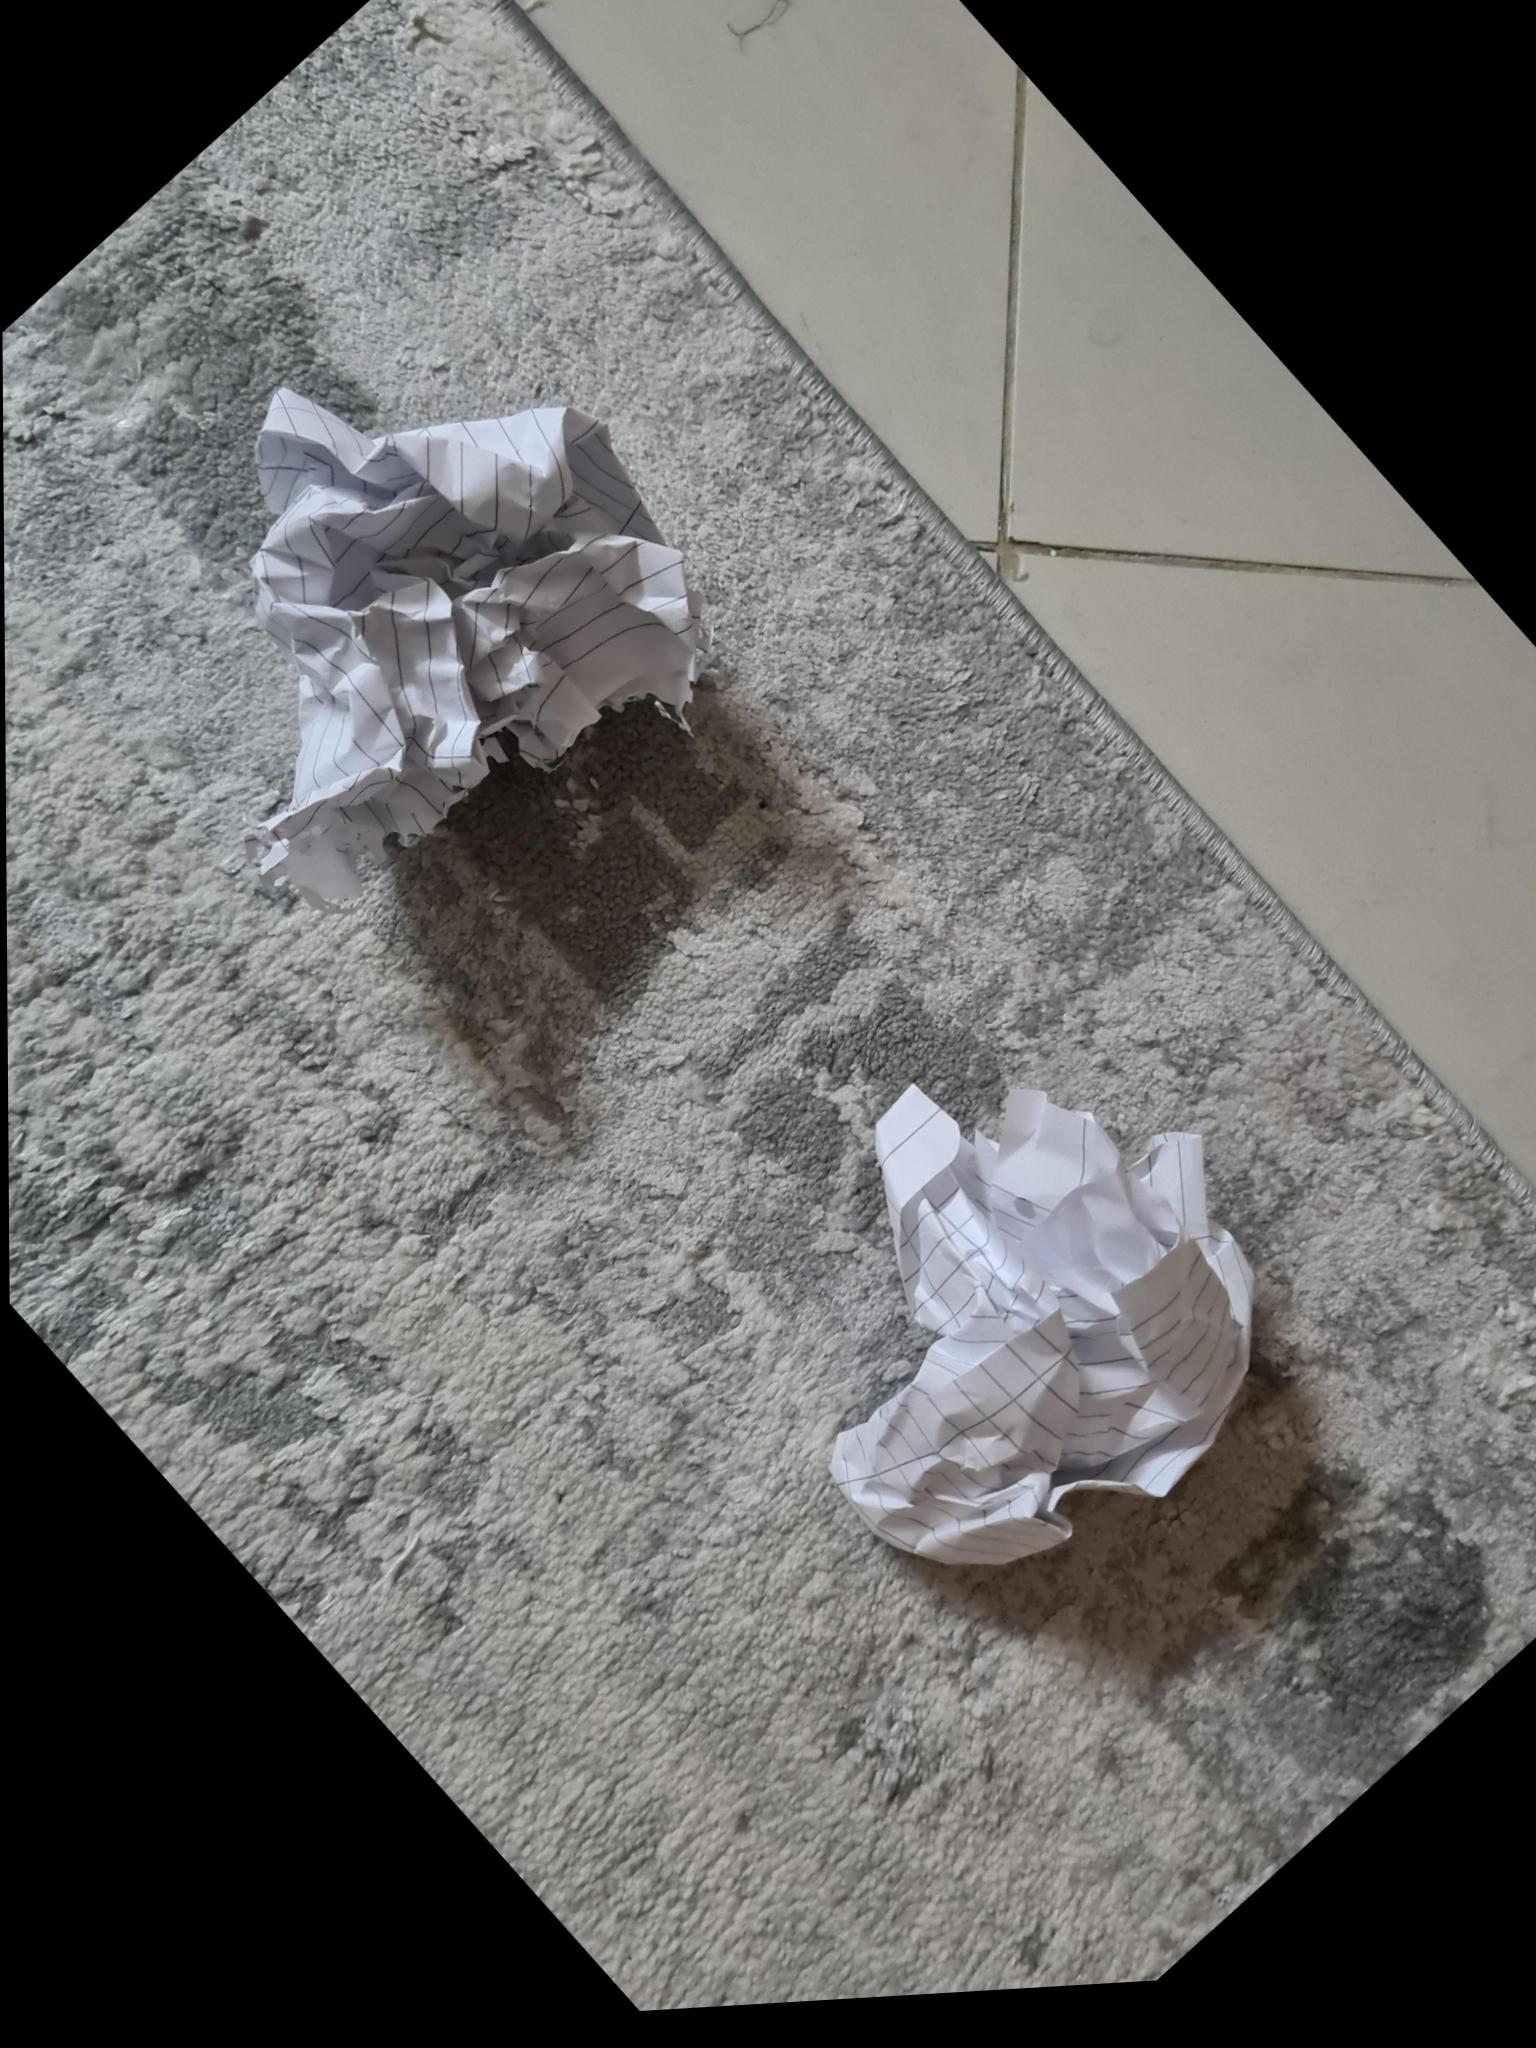paper: (252, 389, 695, 900), (833, 1085, 1250, 1563)
